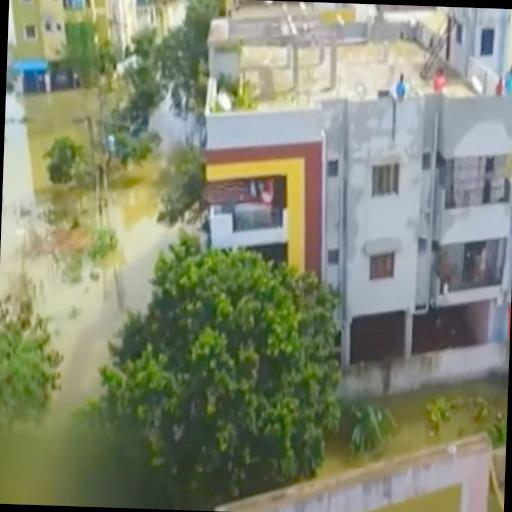flood: (0, 89, 202, 509), (320, 378, 508, 476), (138, 0, 183, 26)
house: (193, 0, 512, 255), (437, 6, 512, 99), (7, 0, 108, 63)
